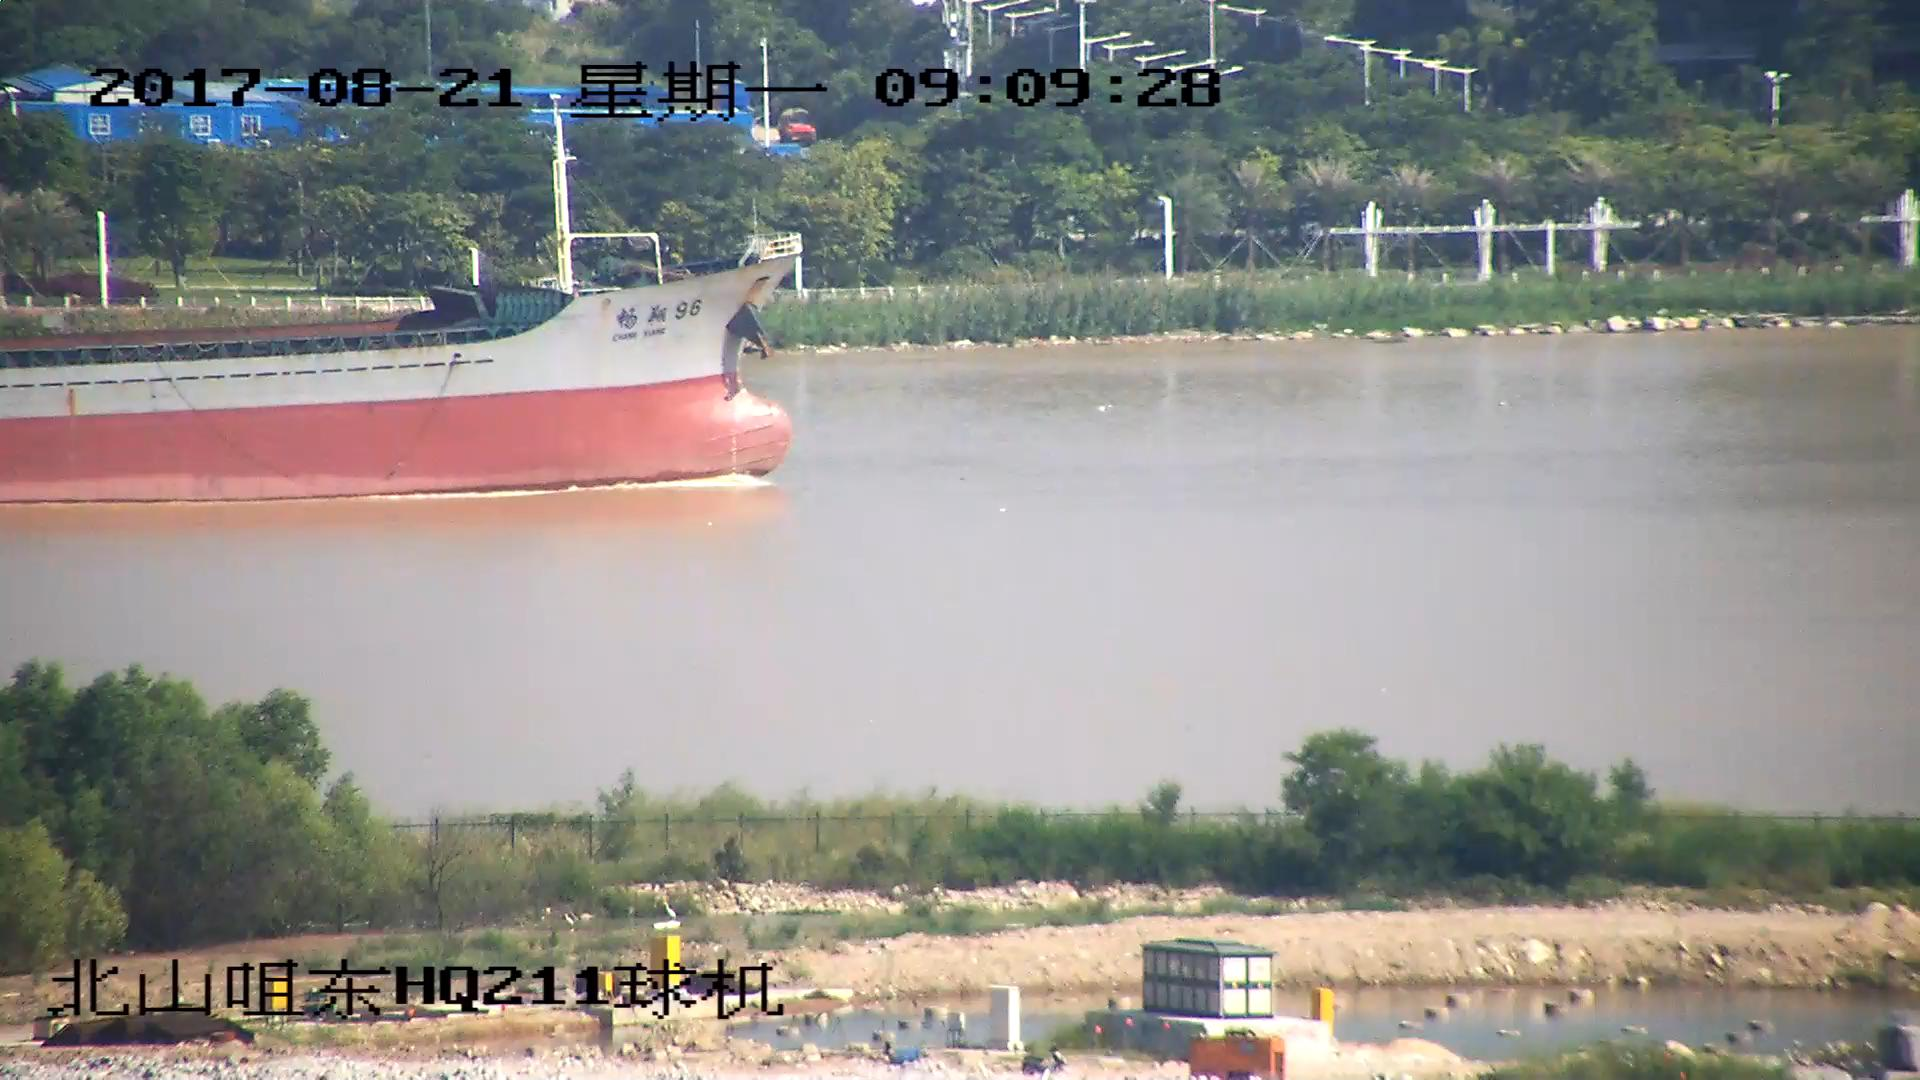general cargo ship: (1, 117, 817, 509)
